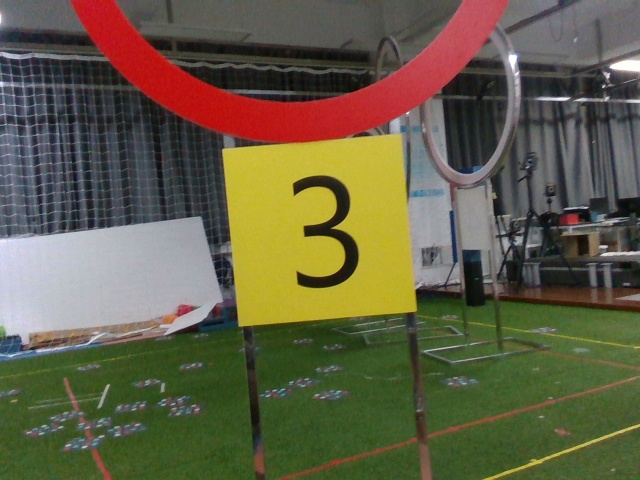target: (229, 148, 409, 310)
